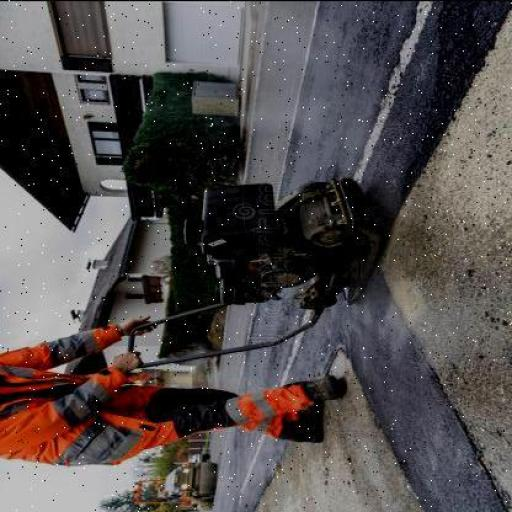safety_shoe: (291, 400, 331, 442), (303, 372, 346, 401)
